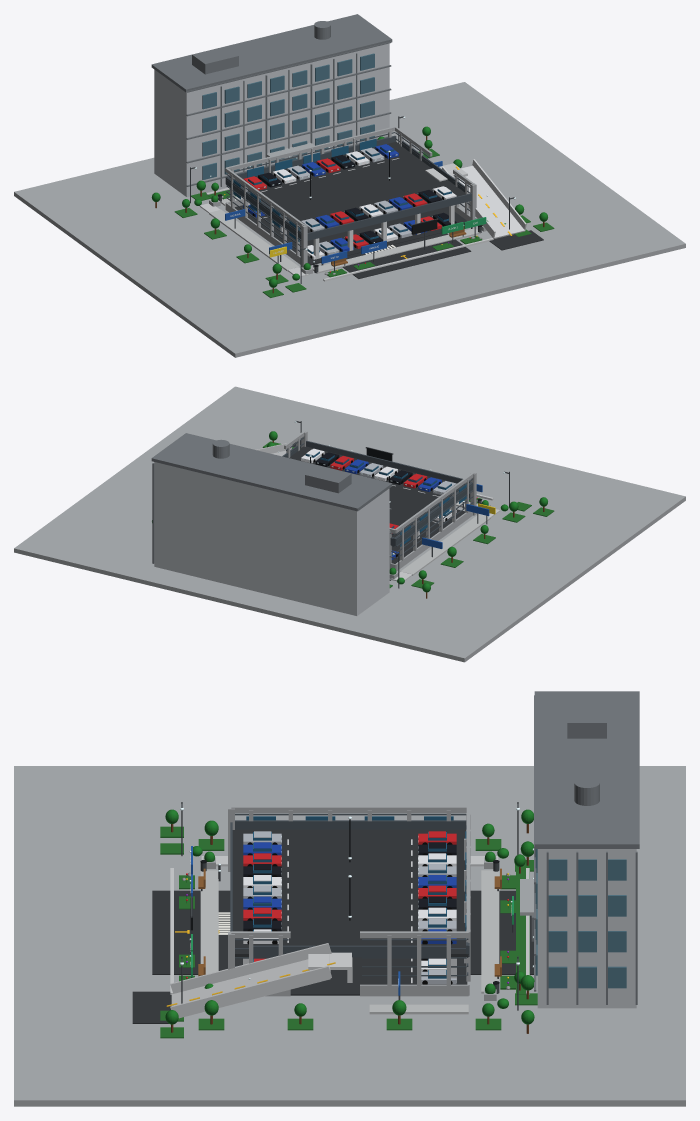
File: parking.glb
The picture shows the model from 3 angles, top to bottom: view 1: azimuth 30°, elevation 25°; view 2: azimuth 150°, elevation 25°; view 3: azimuth 270°, elevation 25°; orthographic projection. The views are drawn at different scales.
Visible parts, largest first — view 1: Ground, Tall Flat Building, Floor 2, Flat Building Roof, Main Entrance, Floor 1, MAIN RAMP TO FLOOR 2, Floor 2 Front Railing, Front Main Sidewalk, Left Side Walkway, Rooftop Utility Box, Back Upper Beam (+7 smaller); view 2: Ground, Tall Flat Building, Flat Building Roof, Floor 2, Left Side Walkway, Floor 2 Front Railing, Rooftop Utility Box, Left Lower Wall, Floor 2 Left Railing, Floor 1, Left Upper Beam; view 3: Ground, Floor 2, Flat Building Roof, Tall Flat Building, Main Entrance, Floor 1, Floor 2 Left Barrier, Main Exit, Back Walkway, Ramp Safety Wall.001, MAIN RAMP TO FLOOR 2, Floor 2 Right Railing (+13 smaller).
Boxes of the visible parts, box(x1,y1,x2,y2) form: Ground: box(14, 82, 685, 357); Tall Flat Building: box(154, 43, 389, 196); Floor 2: box(237, 141, 465, 232); Flat Building Roof: box(151, 14, 392, 92); Main Entrance: box(342, 233, 471, 278); Floor 1: box(235, 205, 467, 265); MAIN RAMP TO FLOOR 2: box(448, 165, 525, 238); Floor 2 Front Railing: box(307, 193, 471, 240); Front Main Sidewalk: box(312, 228, 480, 273); Left Side Walkway: box(209, 209, 298, 271); Rooftop Utility Box: box(192, 46, 238, 74); Back Upper Beam: box(226, 126, 395, 169); Ground: box(14, 386, 685, 662); Tall Flat Building: box(154, 462, 389, 615); Flat Building Roof: box(151, 433, 392, 511); Floor 2: box(289, 446, 462, 537); Left Side Walkway: box(400, 514, 490, 575); Floor 2 Front Railing: box(306, 441, 469, 484); Rooftop Utility Box: box(305, 465, 351, 493); Left Lower Wall: box(395, 511, 472, 571); Floor 2 Left Railing: box(395, 482, 472, 545); Floor 1: box(391, 509, 465, 563); Left Upper Beam: box(395, 472, 474, 533); Ground: box(14, 766, 685, 1106); Floor 2: box(232, 829, 468, 956); Flat Building Roof: box(534, 691, 639, 848); Tall Flat Building: box(537, 849, 636, 1008); Main Entrance: box(152, 890, 230, 974); Floor 1: box(235, 957, 467, 995); Floor 2 Left Barrier: box(235, 820, 466, 829); Main Exit: box(470, 890, 533, 974); Back Walkway: box(481, 870, 499, 993); Ramp Safety Wall.001: box(170, 966, 331, 1017); MAIN RAMP TO FLOOR 2: box(171, 954, 330, 1018); Floor 2 Right Railing: box(253, 945, 446, 957).
Bounding box in the file's own units: 80 × 21.7 × 68.
